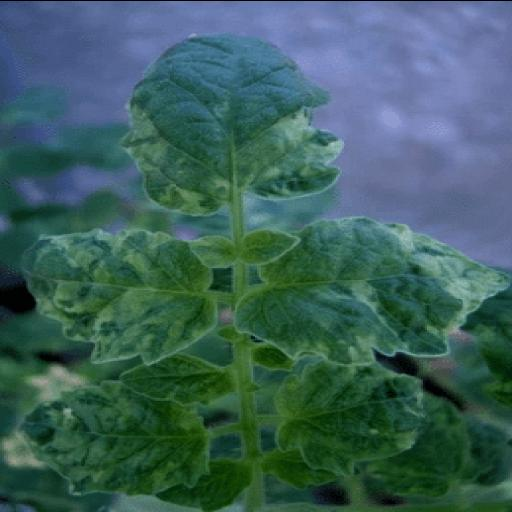Mosaic Virus: (114, 32, 348, 216), (230, 213, 512, 365), (14, 224, 218, 364), (13, 378, 212, 500), (264, 358, 432, 478)
